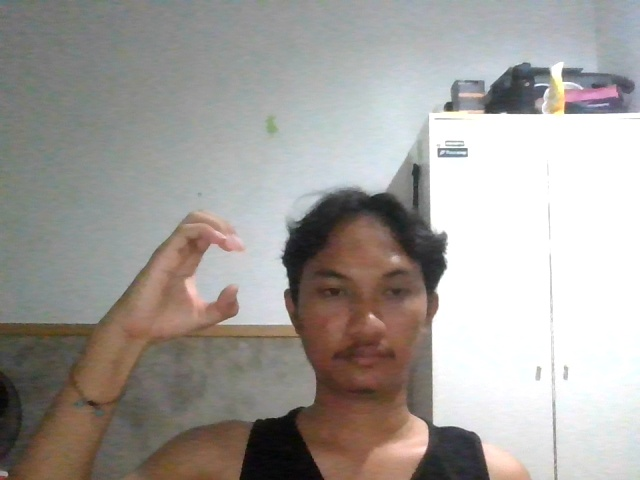c: (89, 185, 262, 354)
